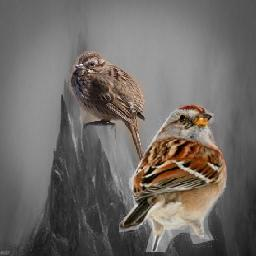Sparrow: (119, 104, 227, 253), (70, 52, 147, 171)
